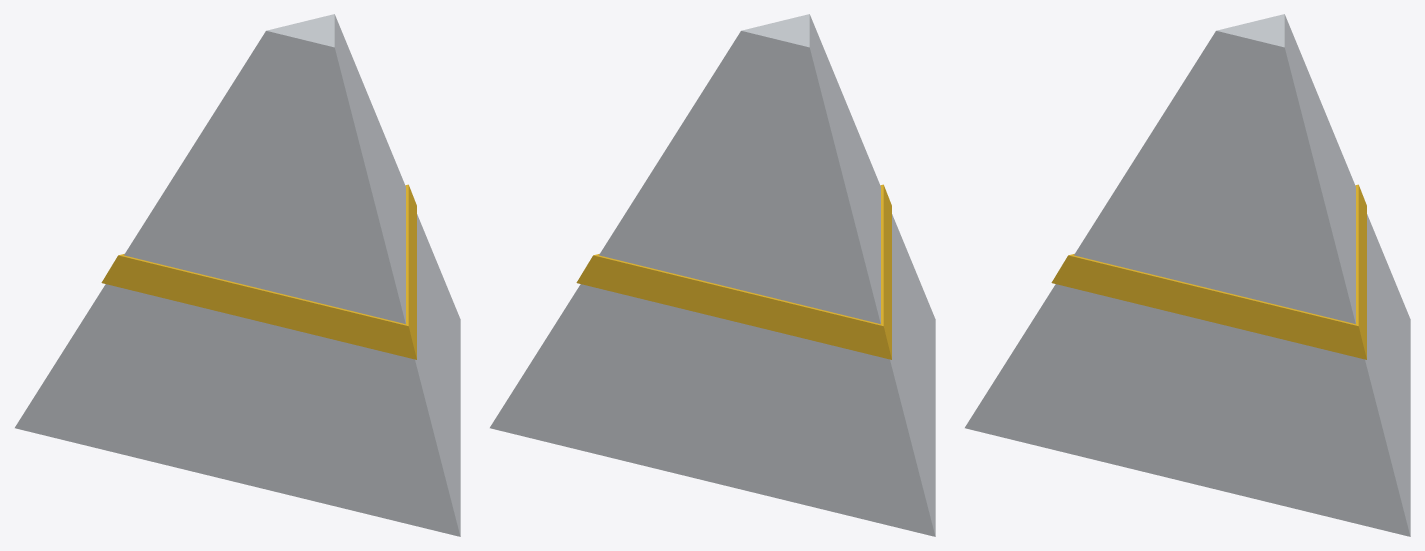
The model's file is dorito.glb.
3 views of the same model, side by side, from view 1: azimuth 30°, elevation 25°; view 2: azimuth 150°, elevation 25°; view 3: azimuth 270°, elevation 25° (orthographic).
Parts seen in each view (by area): view 1: dorito; view 2: dorito; view 3: dorito.
Boxes of the visible parts, bbox=[...] form: dorito: bbox=[15, 14, 460, 536]; dorito: bbox=[490, 14, 935, 536]; dorito: bbox=[965, 14, 1410, 536].
Size of the model in its own units: 1.35 by 1.15 by 1.17.
